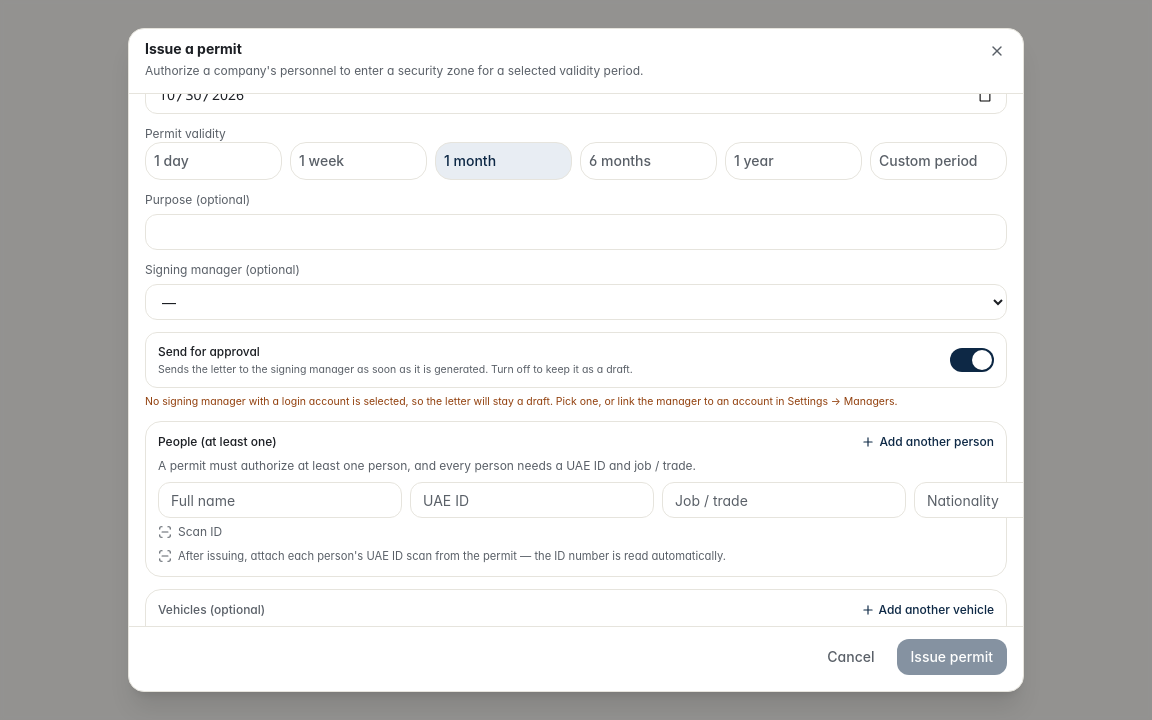
PermitFormDialog › warns that the letter will stay a draft when no manager can receive it
The width and height of the screenshot is (1152, 720).
(page scrolled)
Expected: the text "will stay a draft" is shown, [145, 395, 898, 408]
// Turning the switch off is a deliberate draft — no warning needed.
What coordinates should you click on to do the following:
click the switch named "send for approval"
I would click on:
 (972, 360)
Its box is [950, 348, 994, 372].
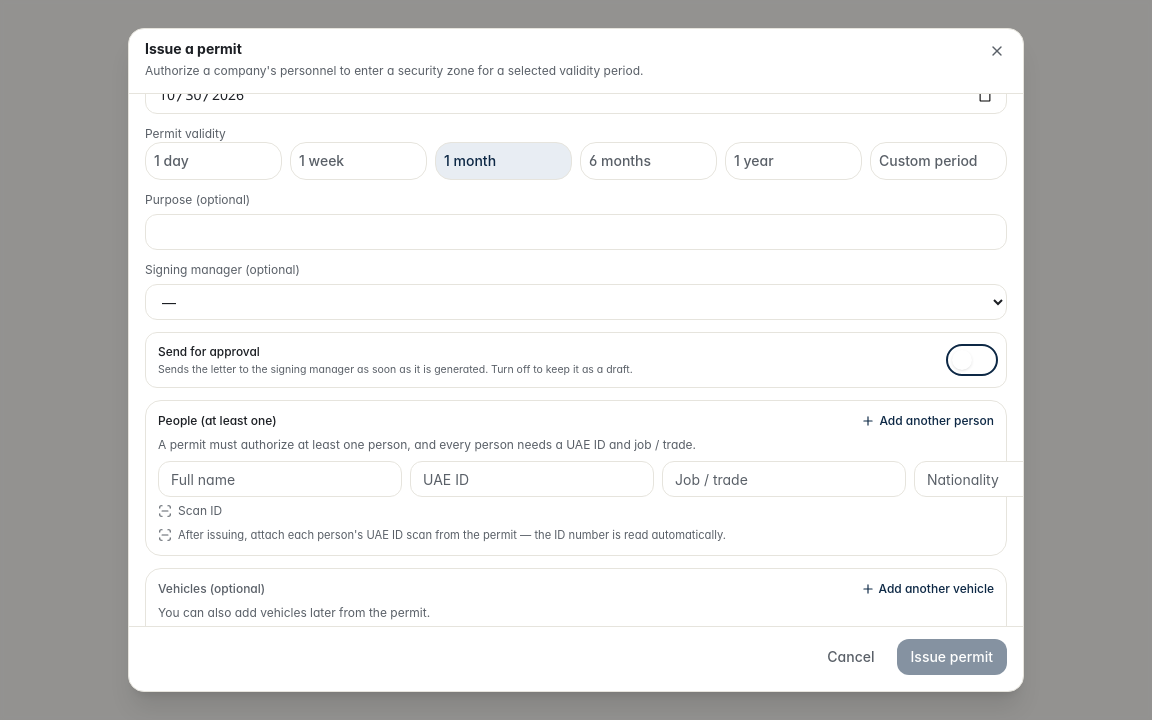
Expected: the text "will stay a draft" is gone
